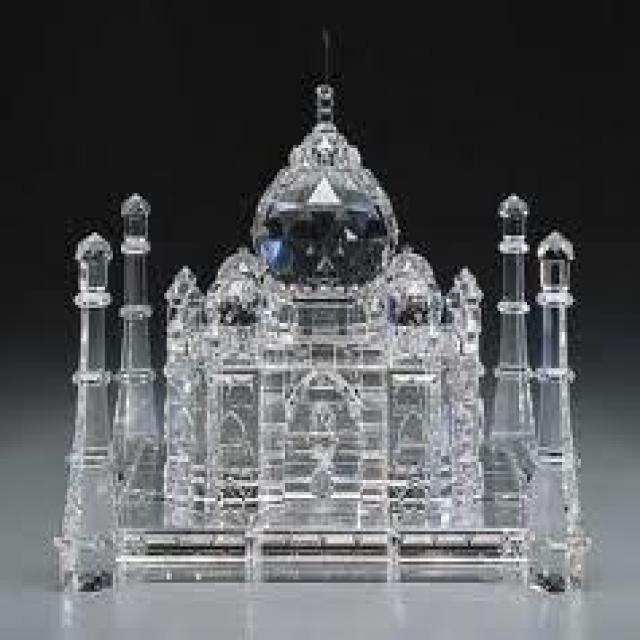non-organic waste: (531, 228, 598, 605)
